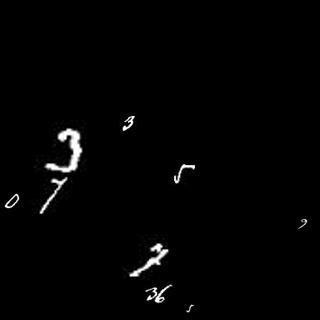five: (169, 161, 198, 186), (183, 301, 195, 312)
nine: (291, 213, 311, 231)
seven: (129, 242, 169, 276), (38, 181, 73, 216)
six: (155, 281, 175, 306)
three: (45, 123, 87, 176), (119, 115, 138, 133), (144, 285, 158, 303)
zero: (8, 191, 23, 210)
